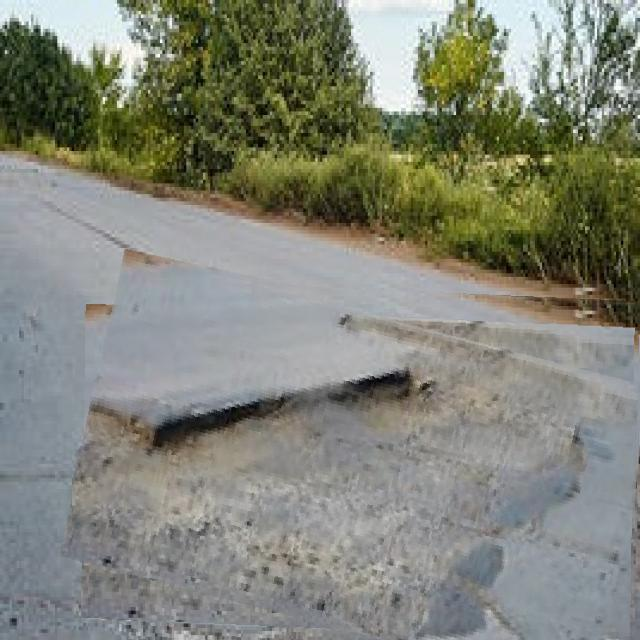Pothole: (72, 276, 640, 640)
